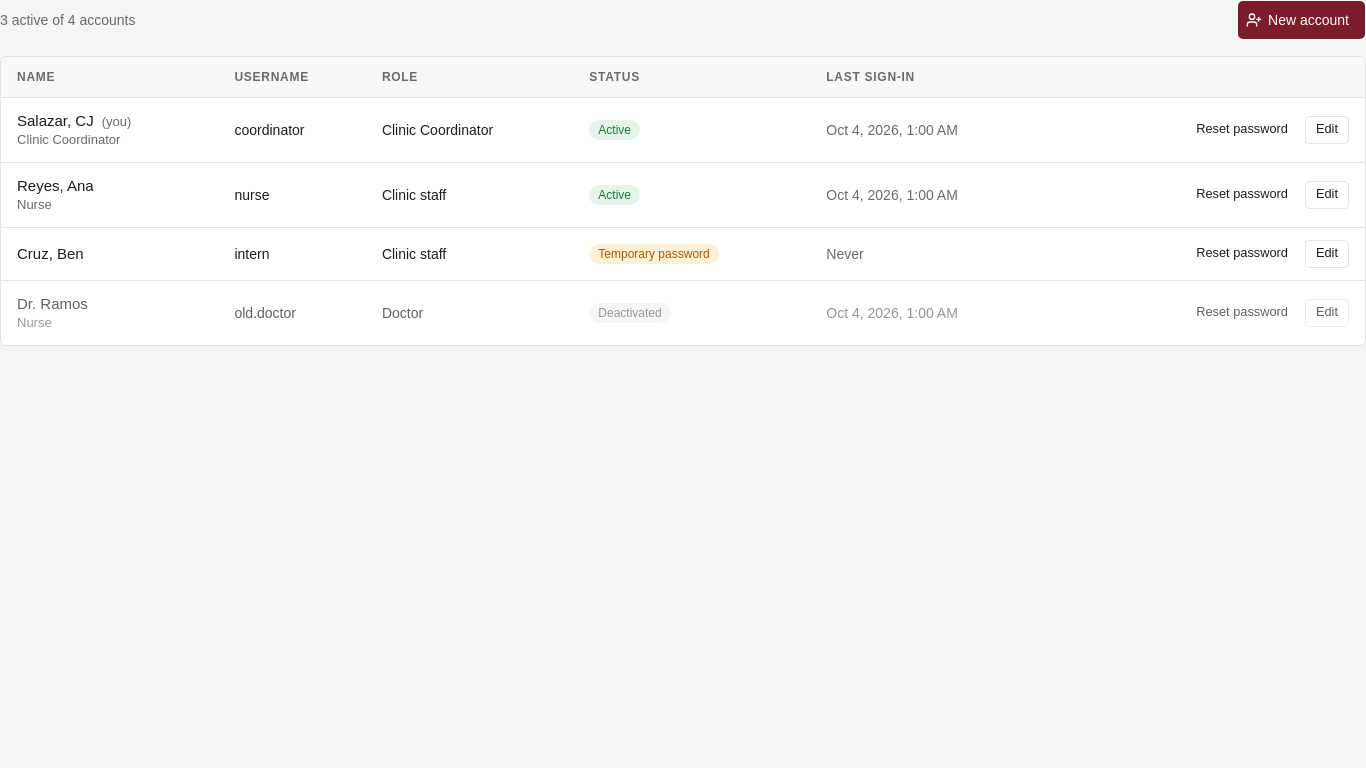
Test: resets a password
Click the button with aria-label "Reset password of Cruz, Ben".
click(1242, 254)  # box [1185,240,1299,268]
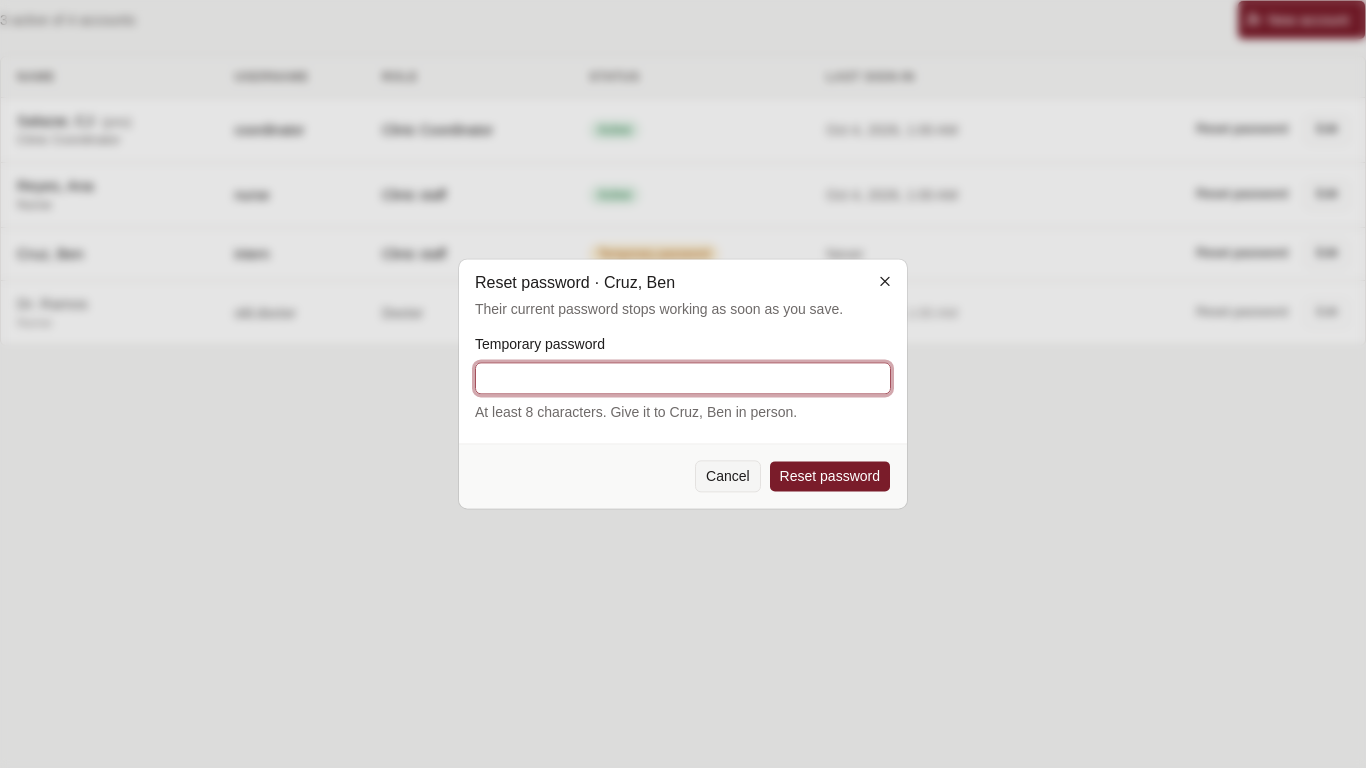
Click the button "Reset password".
click(830, 477)  # box [769,461,891,493]
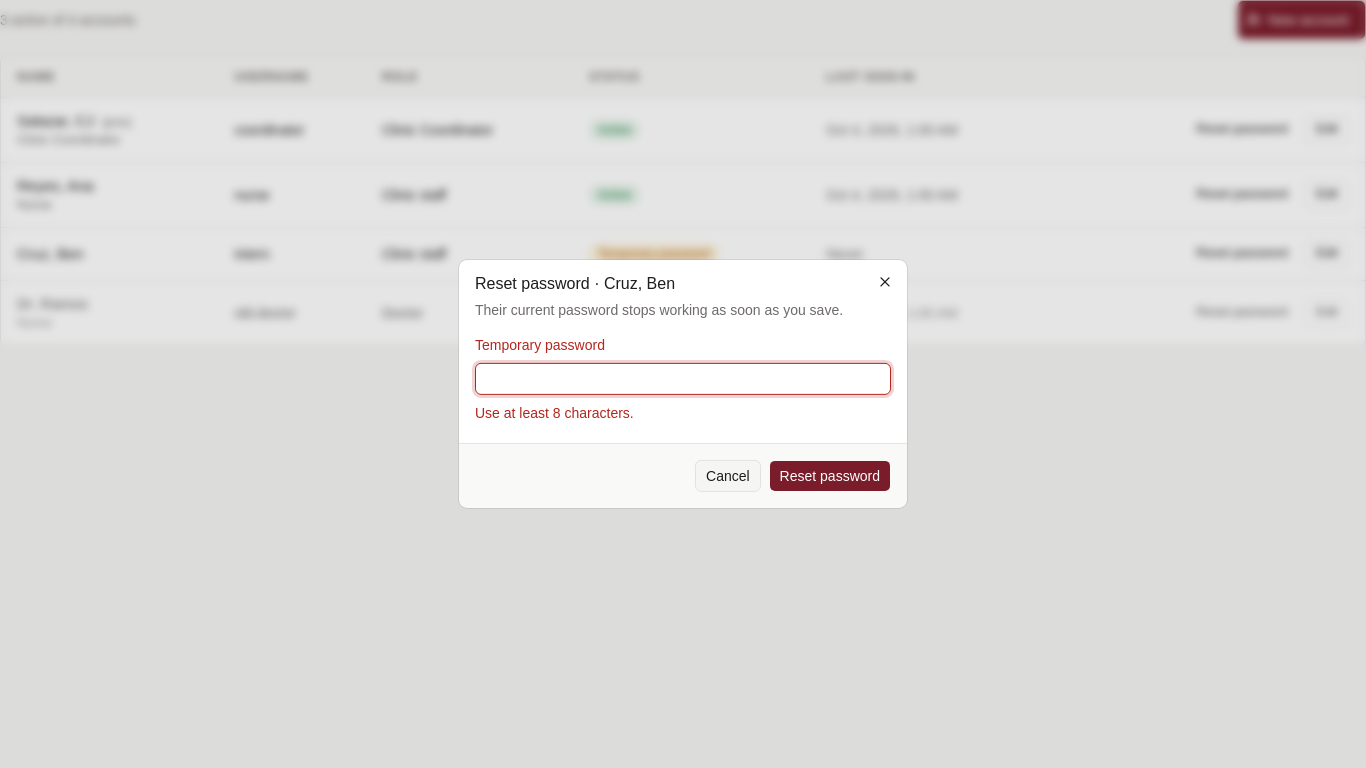
Expected: the text "Use at least 8 characters." is shown, [475,405,634,421]
Type "fresh-start-1" into the field labelled "Temporary password".
click(683, 379); type("fresh-start-1")  # box [475,363,891,395]
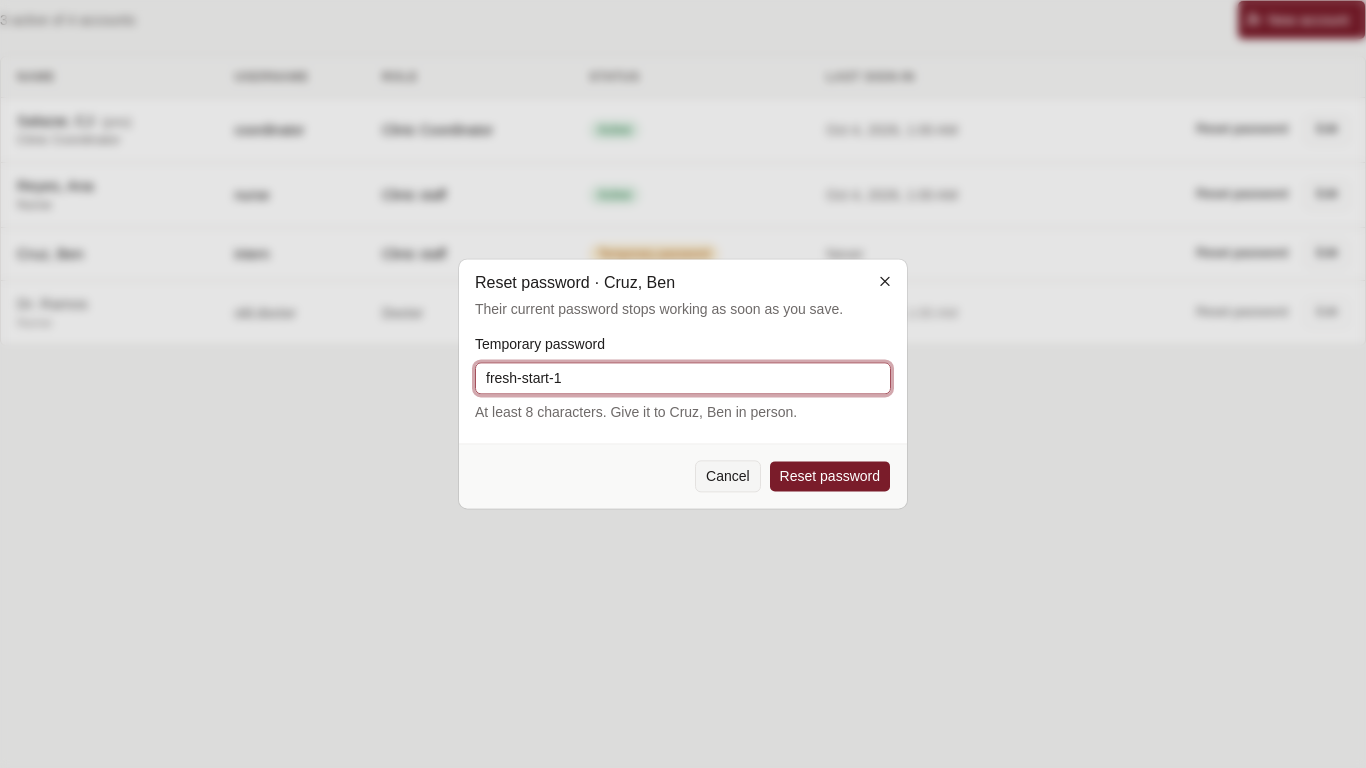
Click the button "Reset password".
click(830, 477)  # box [769,461,891,493]
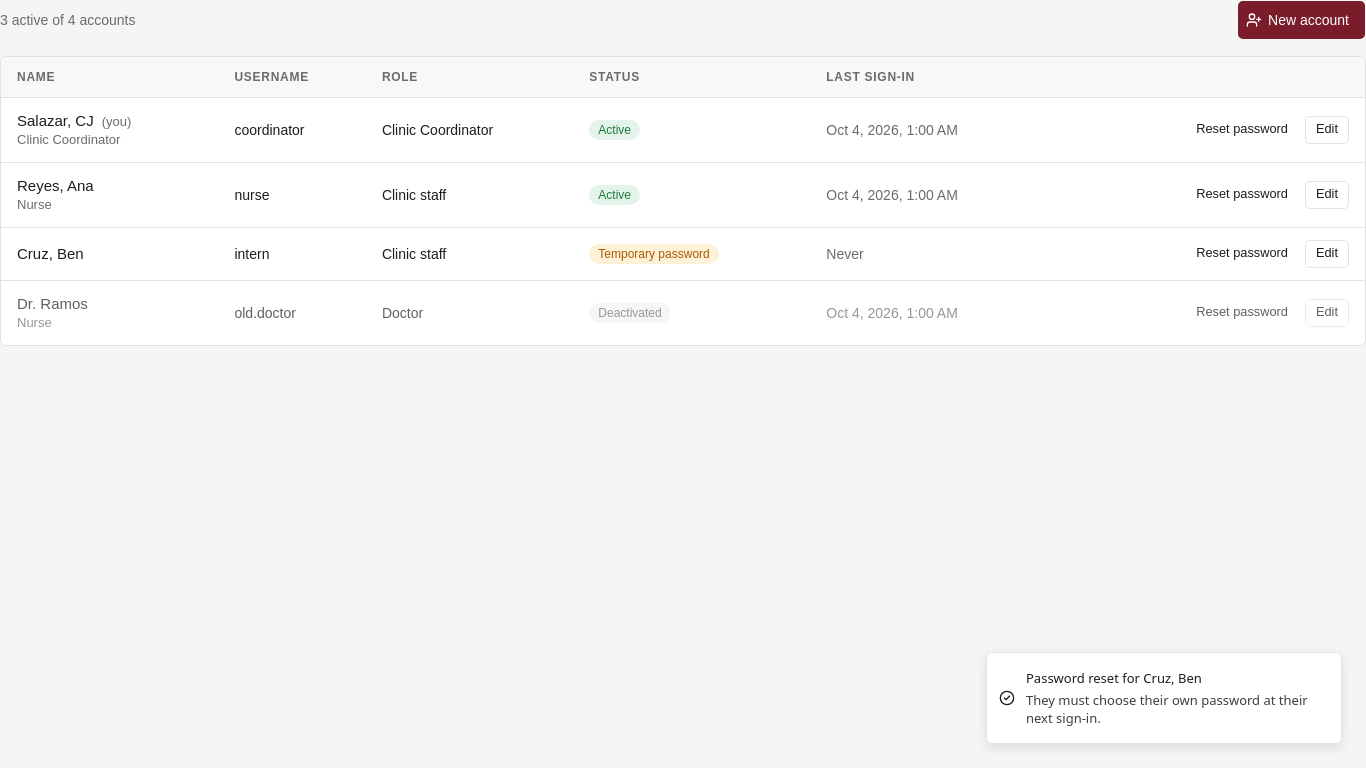
Expected: the text "Password reset for Cruz, Ben" is shown, [1026,669,1202,687]
